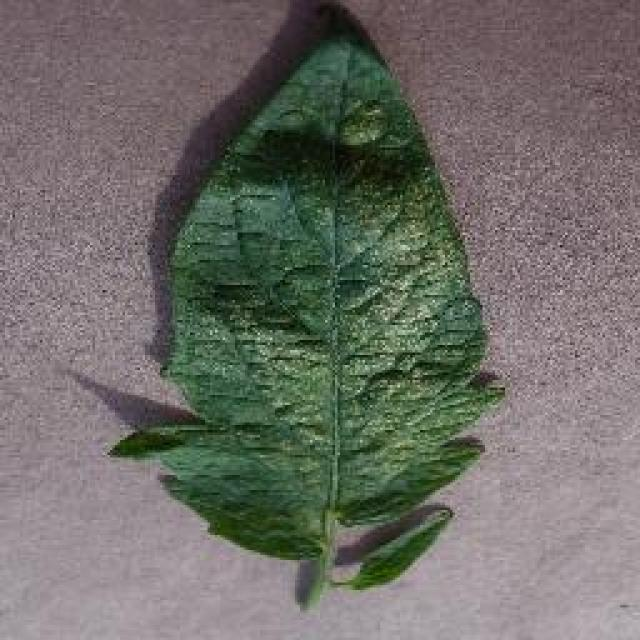Tomato___Spider_mites Two-spotted_spider_mite: (115, 35, 502, 602)
